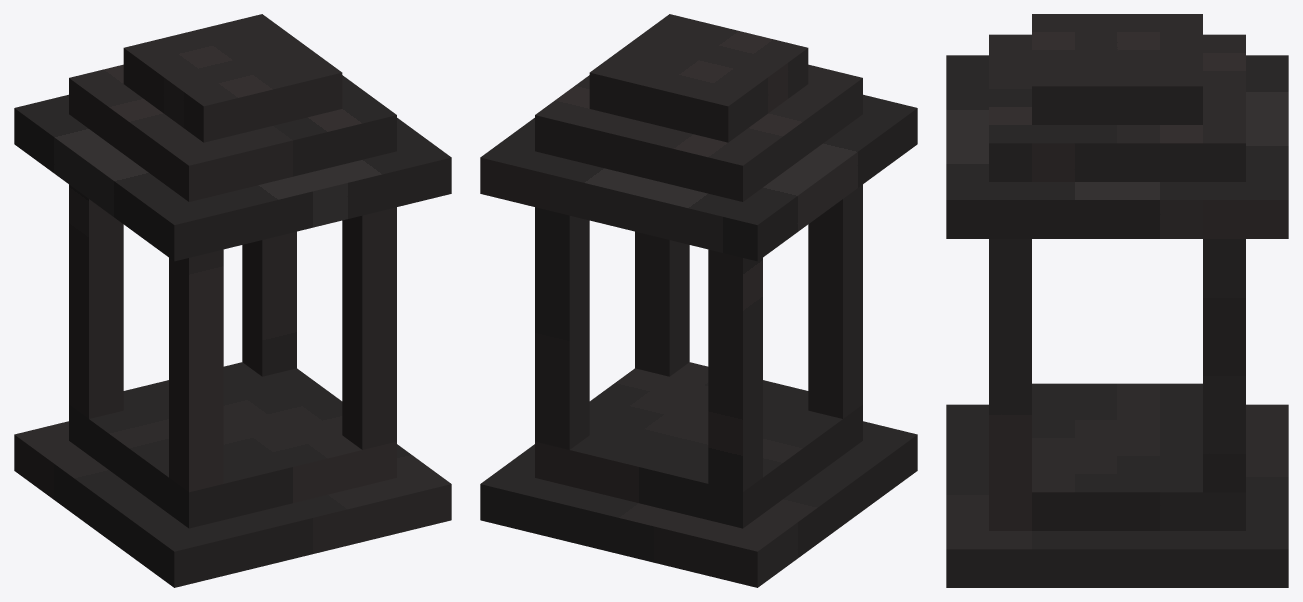
The model's file is Prueba_02.fbx.
3 renders of one model, left to right at view 1: azimuth 30°, elevation 25°; view 2: azimuth 150°, elevation 25°; view 3: azimuth 270°, elevation 25°, orthographic. The views are drawn at different scales.
Visible parts, largest first — view 1: cube_1, cube_8, cube, cube_6, cube_7, cube_3, cube_2, cube_4, cube_5; view 2: cube_1, cube_8, cube, cube_6, cube_7, cube_4, cube_5, cube_3, cube_2; view 3: cube, cube_8, cube_1, cube_6, cube_7, cube_2, cube_5.
Boxes of the visible parts, x1,y1,x2,y2 form: cube_1: [69, 362, 396, 528]; cube_8: [14, 94, 451, 261]; cube: [14, 421, 451, 587]; cube_6: [69, 64, 396, 201]; cube_7: [123, 14, 342, 142]; cube_3: [169, 249, 223, 492]; cube_2: [342, 207, 396, 449]; cube_4: [69, 184, 123, 418]; cube_5: [242, 231, 296, 376]; cube_1: [535, 362, 862, 528]; cube_8: [480, 94, 917, 261]; cube: [480, 421, 917, 587]; cube_6: [535, 64, 862, 201]; cube_7: [589, 14, 808, 142]; cube_4: [708, 249, 762, 492]; cube_5: [535, 207, 589, 449]; cube_3: [808, 184, 862, 418]; cube_2: [635, 231, 689, 376]; cube: [946, 404, 1288, 587]; cube_8: [946, 55, 1288, 238]; cube_1: [989, 383, 1245, 530]; cube_6: [989, 34, 1245, 181]; cube_7: [1032, 14, 1202, 124]; cube_2: [989, 239, 1031, 492]; cube_5: [1203, 239, 1245, 492].
Bounding box in the file's own units: 25 × 37.5 × 25.
